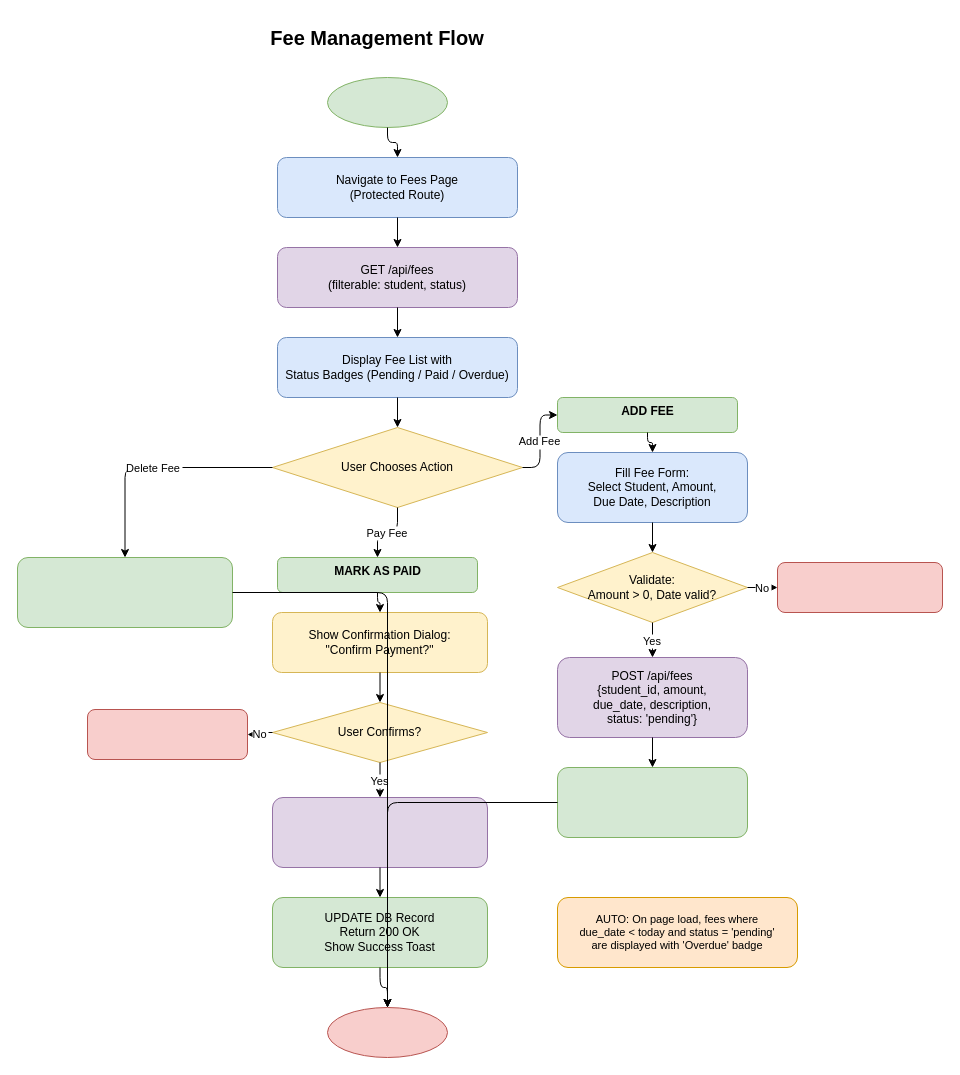
The diagram is 960 pixels wide and 1075 high, and some of its shapes have lost their labels. Here are the shapes that lost their labels. From the top down, the box of each, then its label:
(326, 76, 448, 128): START
(16, 556, 232, 628): DELETE /api/fees/{id} Return 200 OK Show Success Toast
(776, 562, 942, 612): 400 - Validation Error
(86, 708, 248, 760): Cancel - Return to List
(556, 766, 748, 838): INSERT Fee Record Return 201 Created Show Success Toast
(272, 796, 488, 868): PUT /api/fees/{id} {status: 'paid', paid_date: today}
(326, 1006, 448, 1058): END
